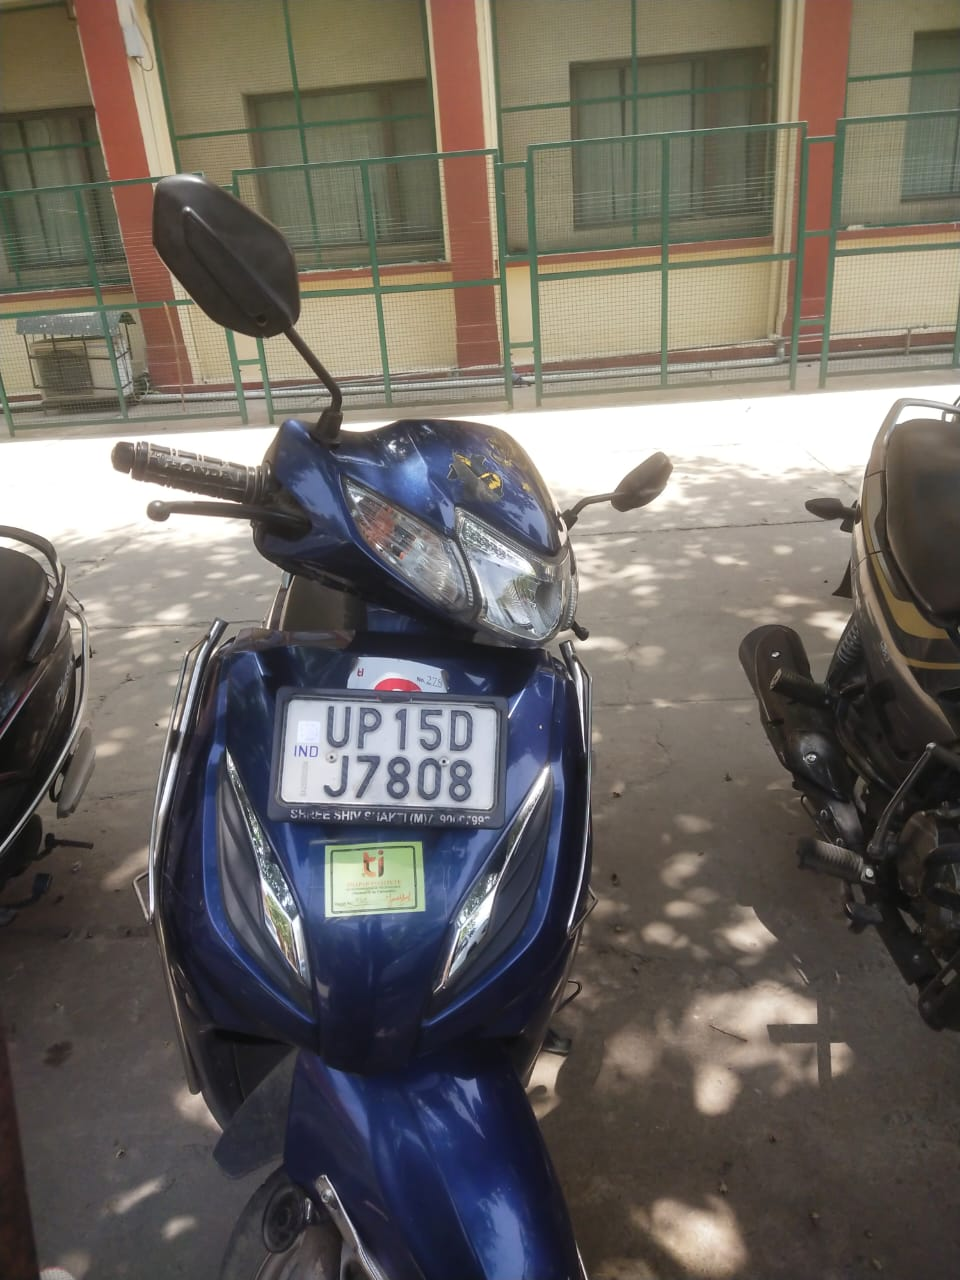license plate: (269, 689, 505, 827)
